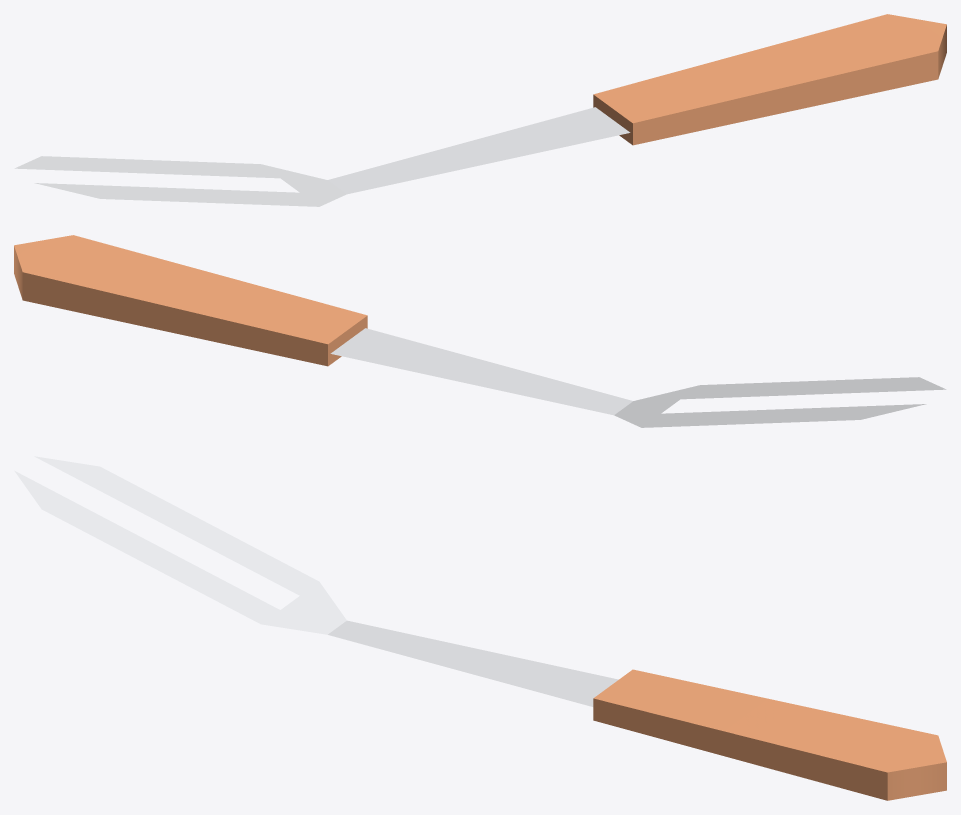
Rendered from Cooking Fork.glb.
The picture shows the model from 3 angles, top to bottom: view 1: azimuth 30°, elevation 25°; view 2: azimuth 150°, elevation 25°; view 3: azimuth 330°, elevation 25°; orthographic projection.
Parts seen in each view (by area): view 1: cookingFork; view 2: cookingFork; view 3: cookingFork.
Part boxes in pixels (<box>): cookingFork: <box>14,14,946,206</box>; cookingFork: <box>14,235,946,427</box>; cookingFork: <box>14,456,946,800</box>.
Bounding box in the file's own units: 0.6827 × 0.0721 × 0.0749.
